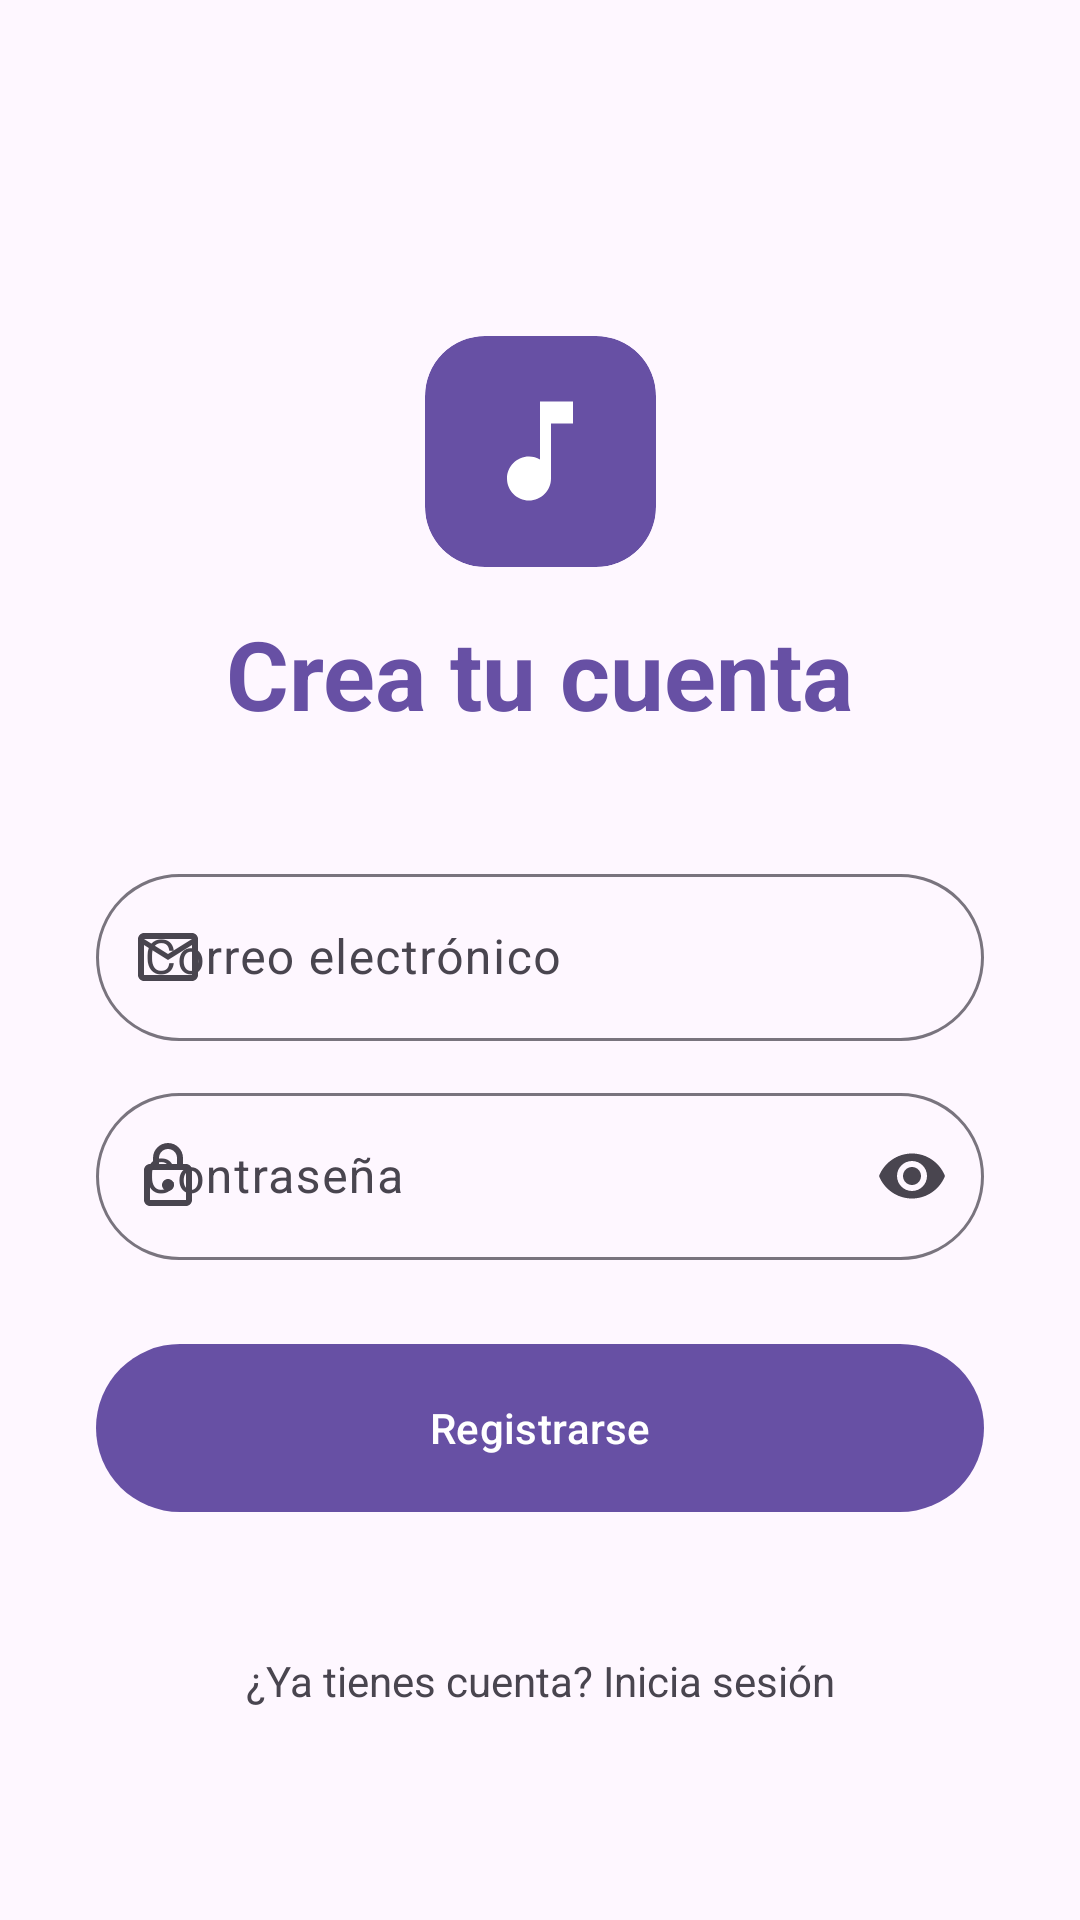

Named icons in this screenshot (1080 × 1920) and their bounding boxes, (x1, y1, x2, y2):
music note: (507, 401, 573, 501)
